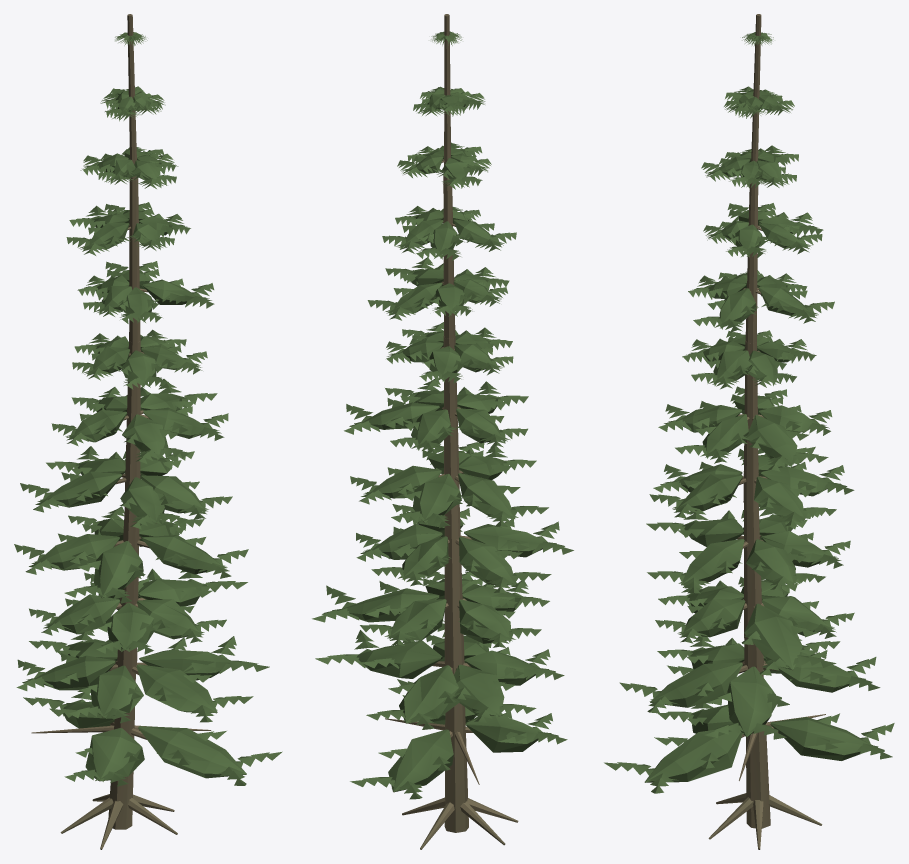
Rendered from taiga-siberian-spruce.glb.
3 renders of one model, left to right at view 1: azimuth 30°, elevation 25°; view 2: azimuth 150°, elevation 25°; view 3: azimuth 270°, elevation 25°, orthographic.
Visible parts, largest first — view 1: Ель сибирская · Picea obovata; view 2: Ель сибирская · Picea obovata; view 3: Ель сибирская · Picea obovata.
Boxes of the visible parts, left/top/right/bottom form: Ель сибирская · Picea obovata: left=14, top=14, right=282, bottom=849; Ель сибирская · Picea obovata: left=312, top=14, right=573, bottom=849; Ель сибирская · Picea obovata: left=604, top=14, right=894, bottom=849.
Size of the model in its own units: 7.25 by 25.02 by 8.12.
